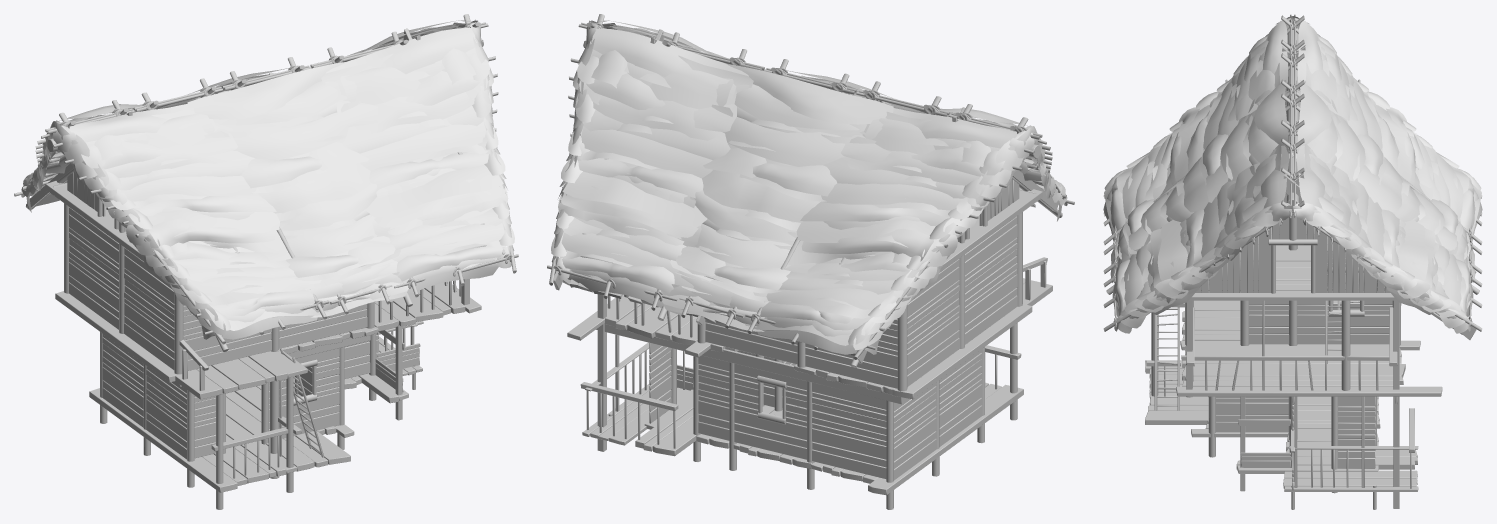
File: lod0_fantasy_house_1571c25d.glb
3 views of the same model, side by side, from view 1: azimuth 30°, elevation 25°; view 2: azimuth 150°, elevation 25°; view 3: azimuth 270°, elevation 25° (orthographic). The views are drawn at different scales.
Parts seen in each view (by area): view 1: thatch_with_opacity, construction.005, construction.019; view 2: thatch_with_opacity, construction.005, construction.019; view 3: thatch_with_opacity, construction.005, construction.019.
Boxes of the visible parts, <box> form: thatch_with_opacity: <box>21,19,514,339</box>; construction.005: <box>26,28,505,509</box>; construction.019: <box>14,14,518,344</box>; thatch_with_opacity: <box>551,20,1067,354</box>; construction.005: <box>553,29,1062,509</box>; construction.019: <box>547,14,1074,359</box>; thatch_with_opacity: <box>1103,16,1482,333</box>; construction.005: <box>1106,30,1479,509</box>; construction.019: <box>1103,14,1482,331</box>.
Bounding box in the file's own units: 3685 × 2856 × 2932.
3 materials, 1 textured.
